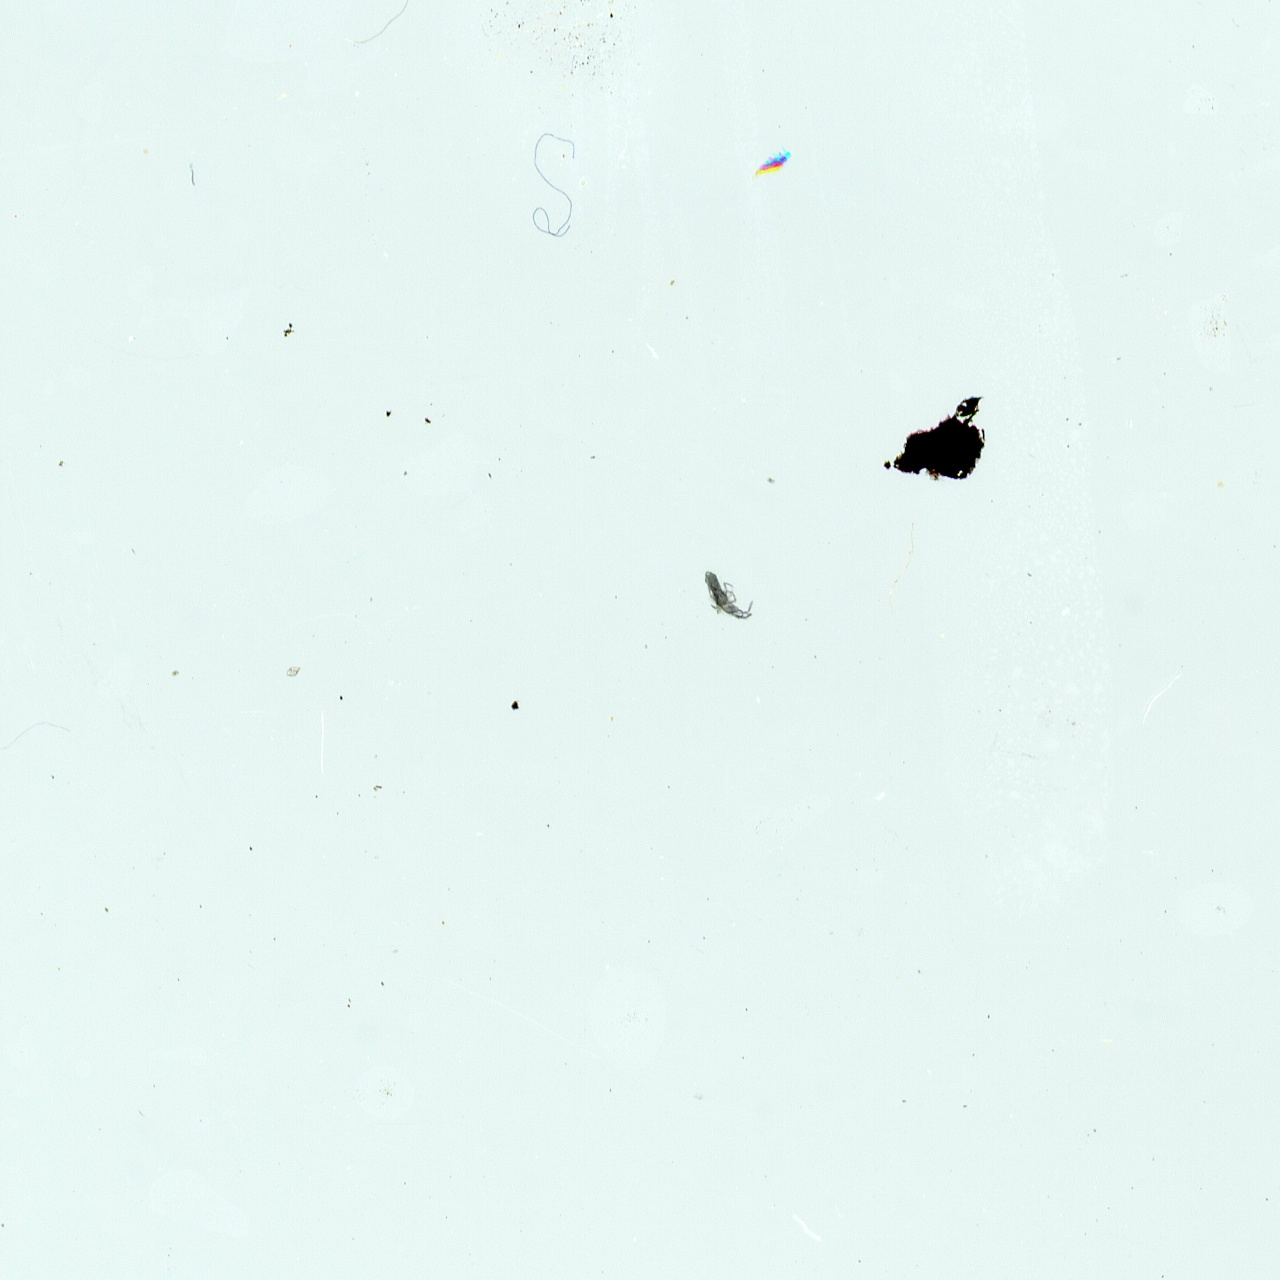arthropod: (693, 561, 764, 625), (742, 144, 794, 185)
